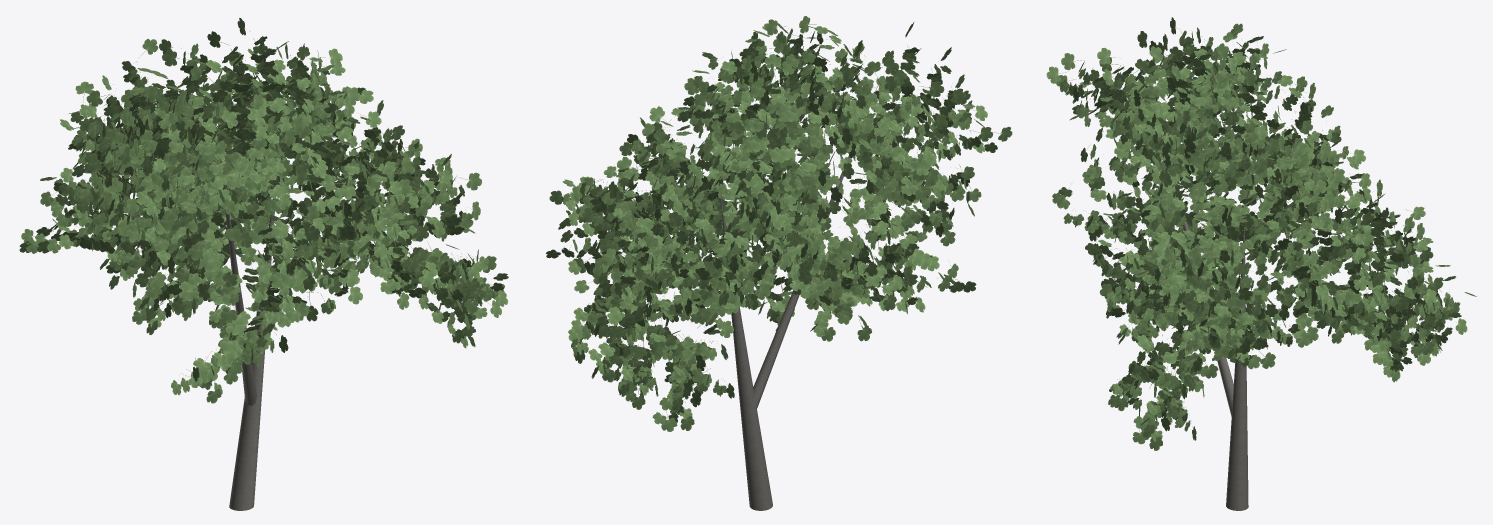
File: tree_eu03_11_5.obj
3 views of the same model, side by side, from view 1: azimuth 30°, elevation 25°; view 2: azimuth 150°, elevation 25°; view 3: azimuth 270°, elevation 25° (orthographic). The views are drawn at different scales.
Visible parts, largest first — view 1: EU03_i11_1 Obj_foliage, Obj_branches EU03_i11_1; view 2: EU03_i11_1 Obj_foliage, Obj_branches EU03_i11_1; view 3: EU03_i11_1 Obj_foliage, Obj_branches EU03_i11_1.
Part boxes in pixels (x1=…): EU03_i11_1 Obj_foliage: x1=19, y1=18, x2=508, y2=403; Obj_branches EU03_i11_1: x1=217, y1=133, x2=277, y2=510; EU03_i11_1 Obj_foliage: x1=546, y1=16, x2=1012, y2=431; Obj_branches EU03_i11_1: x1=718, y1=87, x2=877, y2=510; EU03_i11_1 Obj_foliage: x1=1046, y1=17, x2=1476, y2=450; Obj_branches EU03_i11_1: x1=1147, y1=86, x2=1248, y2=510.
Bounding box in the file's own units: 2324 × 2606 × 2239.
2 materials, 2 textured.
